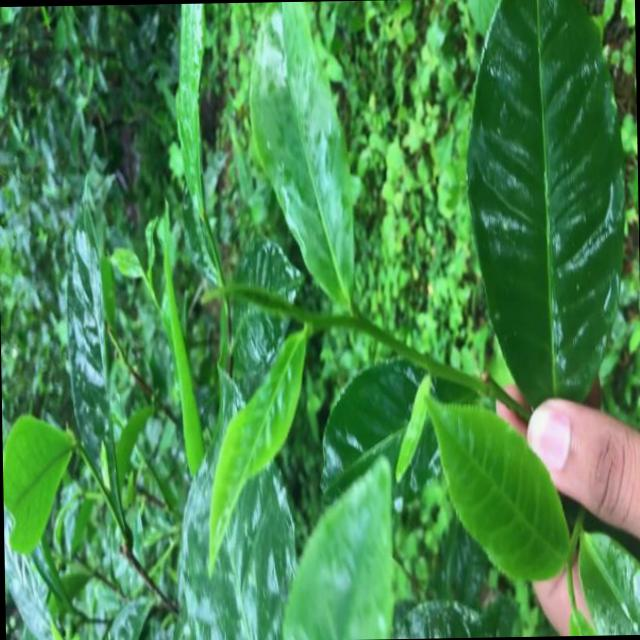Stem: (307, 314, 326, 327)
